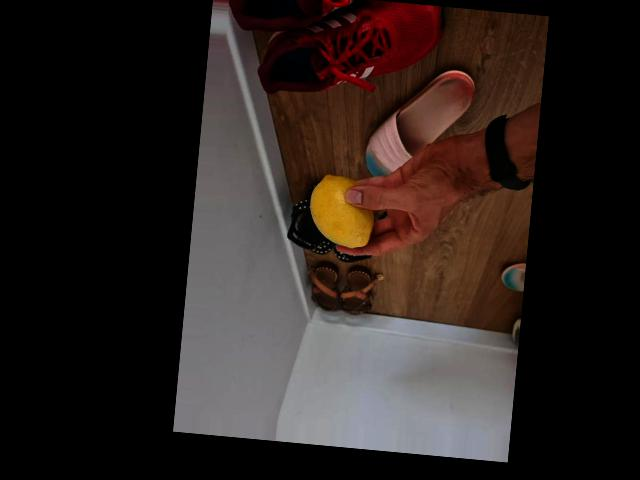lemon: (308, 171, 379, 250)
